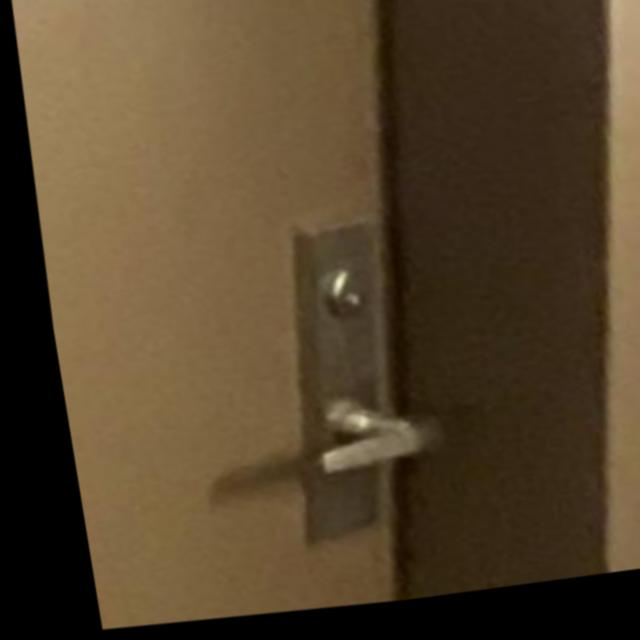door_handle: (235, 374, 457, 523)
